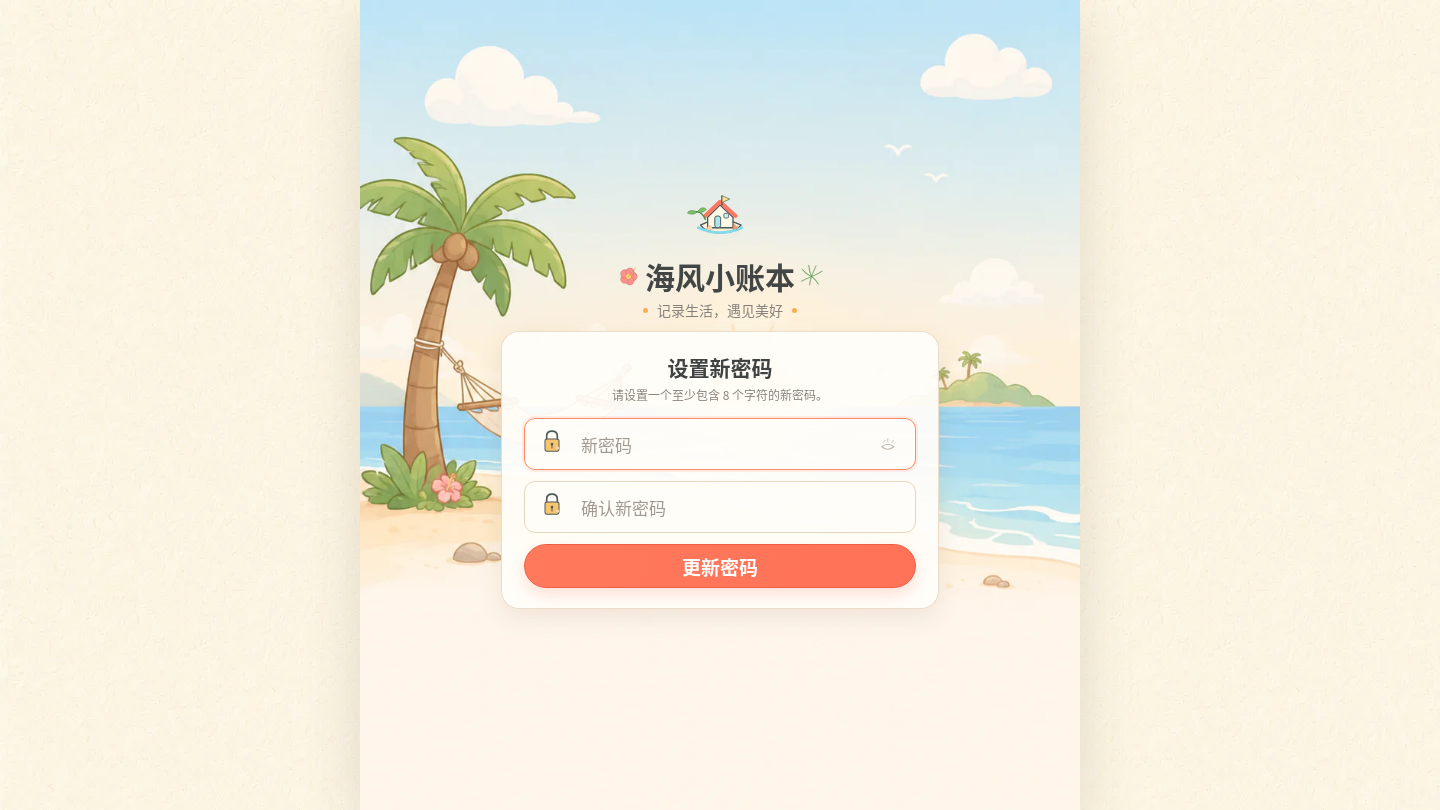
Test: AuthPage › clears a password mismatch when 新密码 is edited
This screenshot has width=1440, height=810.
Type "password123" into the password field labelled "新密码" at (724, 444), box [577,419,871,469]
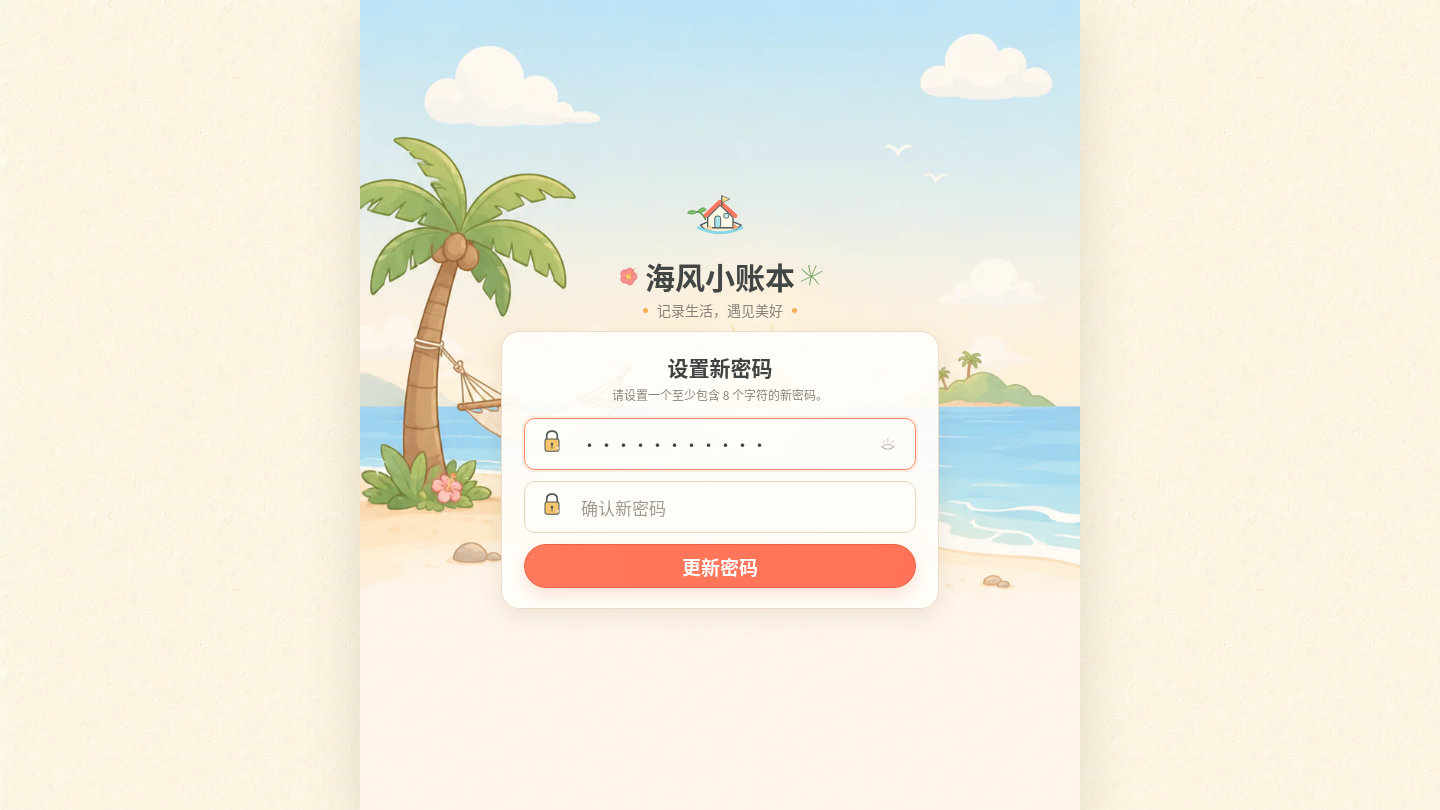
Type "password456" into the password field labelled "确认新密码" at (724, 507), box [577,482,871,532]
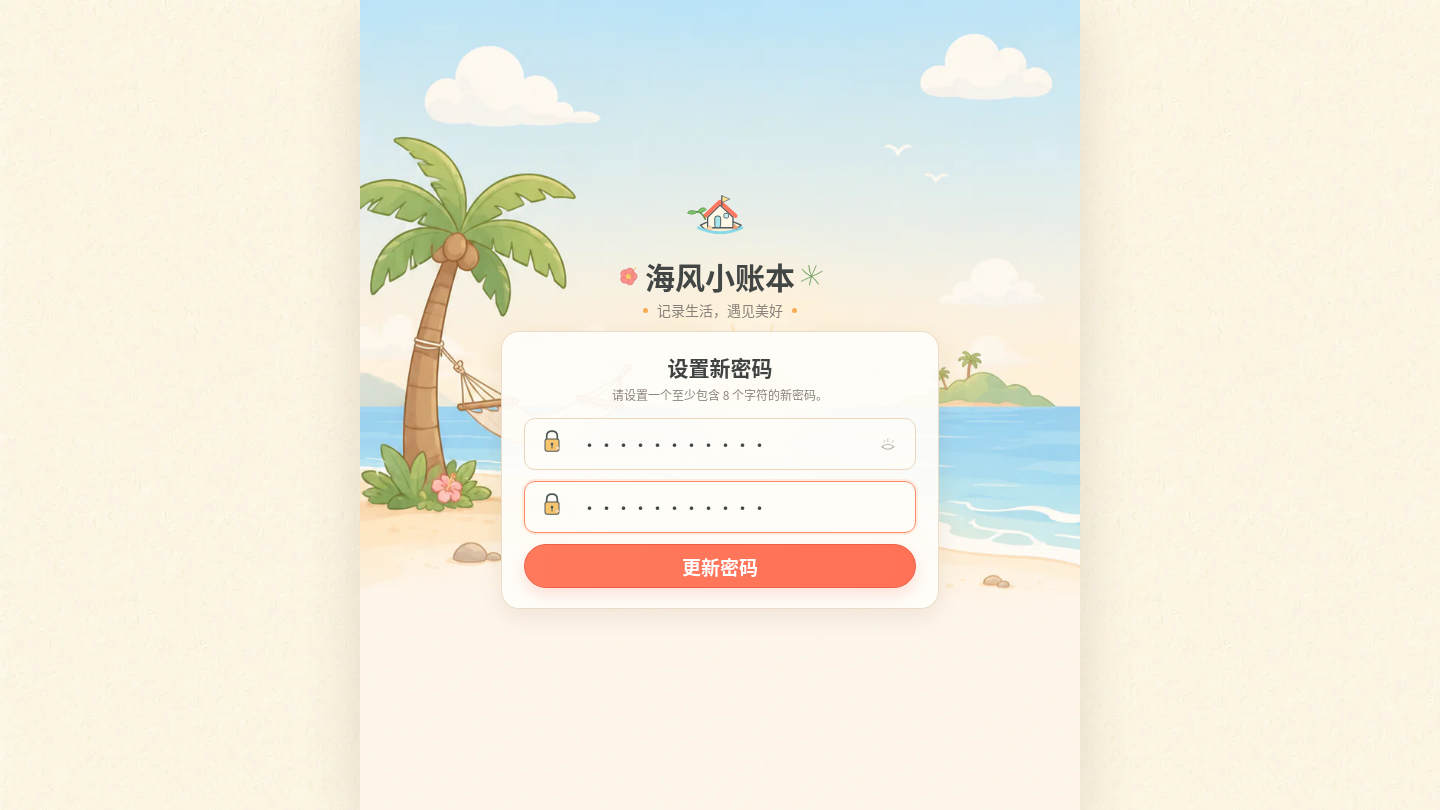
Click the button "更新密码" at (720, 566), box [524,544,916,588]
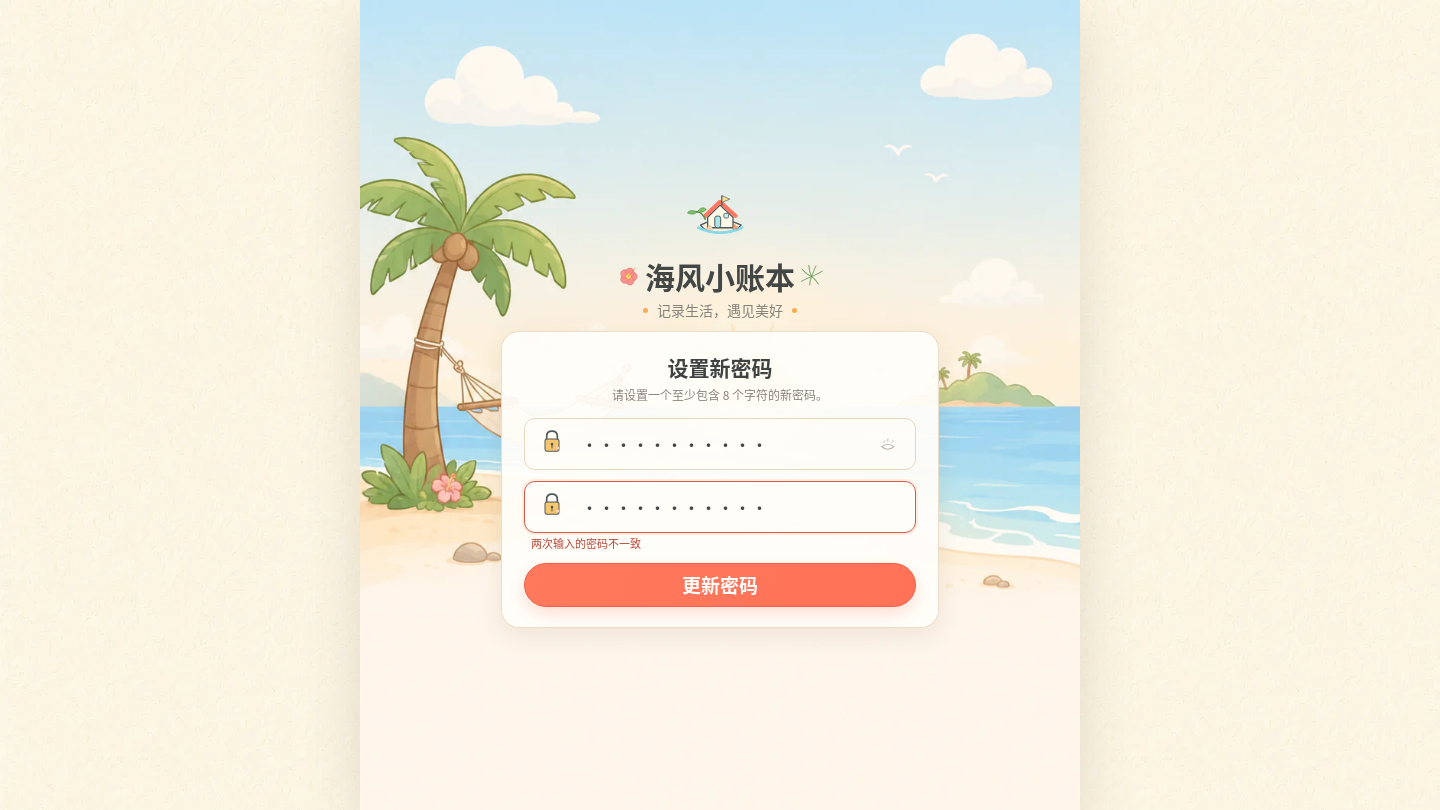
expect the text "两次输入的密码不一致" is shown: met, box [531,535,641,551]
Type "x" into the 1st password field named "新密码" at (724, 444), box [577,419,871,469]
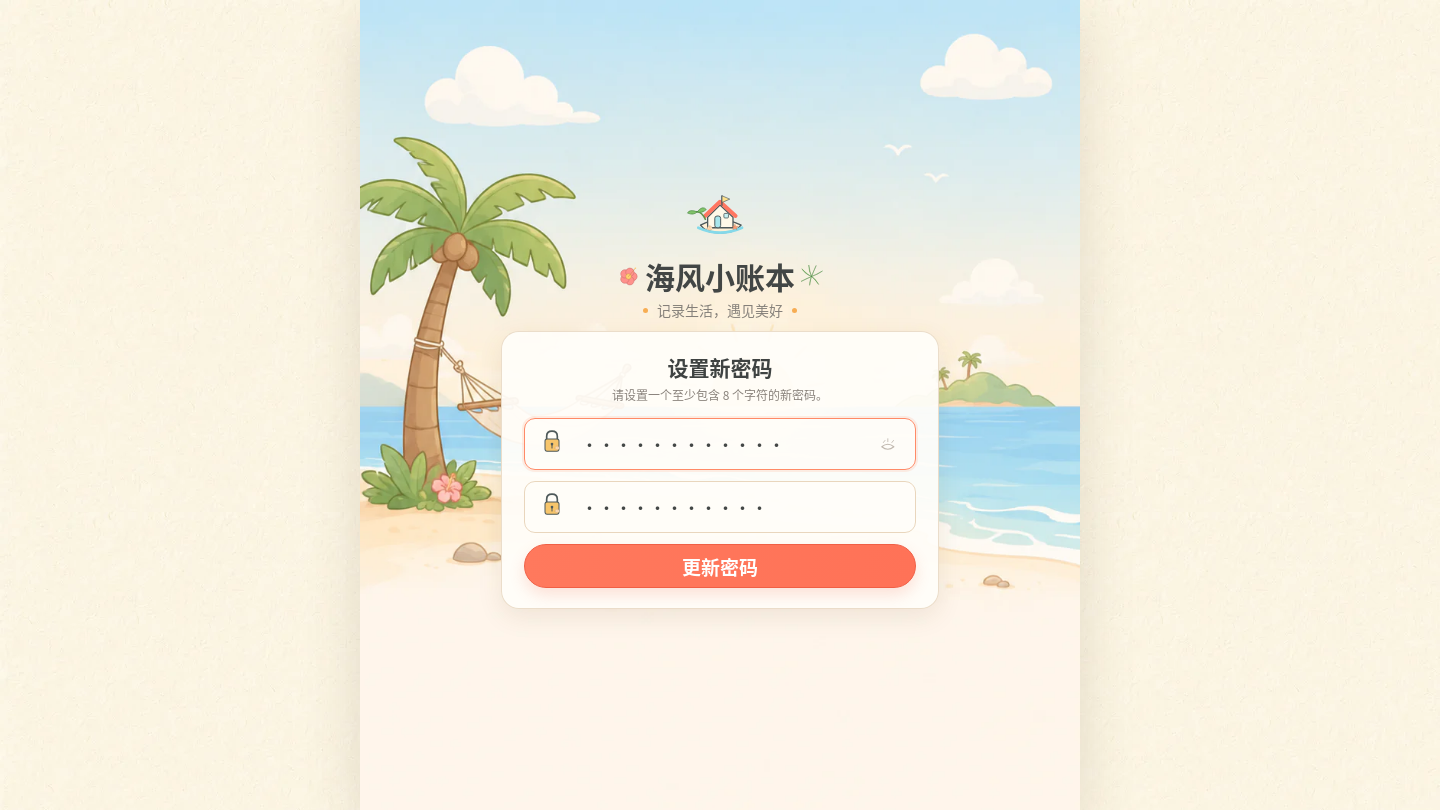
expect the text "两次输入的密码不一致" is gone: met
